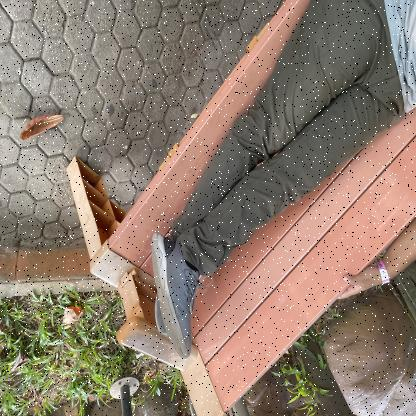leg: (138, 155, 301, 365)
